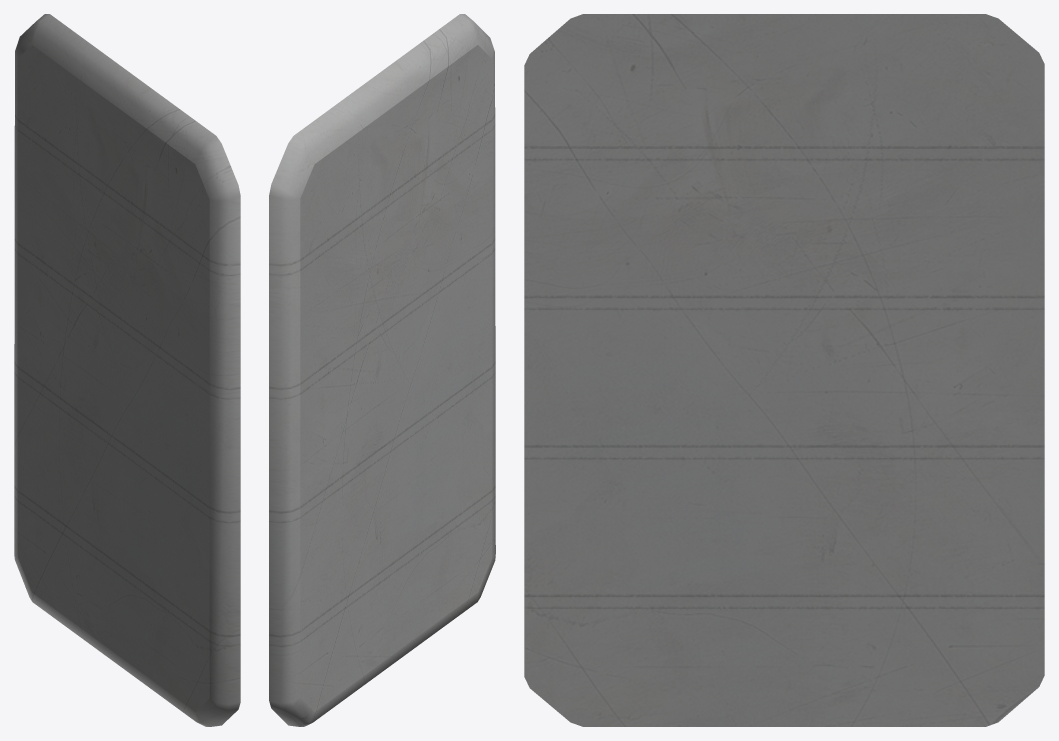
The model's file is SM_Wall_Small2.fbx.
3 renders of one model, left to right at view 1: azimuth 30°, elevation 25°; view 2: azimuth 150°, elevation 25°; view 3: azimuth 270°, elevation 25°, orthographic. The views are drawn at different scales.
Visible parts, largest first — view 1: SM_Wall_Small2_LOD0; view 2: SM_Wall_Small2_LOD0; view 3: SM_Wall_Small2_LOD0.
Part boxes in pixels (x1,y1,x2,y2): SM_Wall_Small2_LOD0: (14,14,240,726); SM_Wall_Small2_LOD0: (269,14,495,726); SM_Wall_Small2_LOD0: (524,14,1044,726).
Size of the model in its own units: 7.45 by 142 by 215.
Materials: 1 (1 with a texture image).
